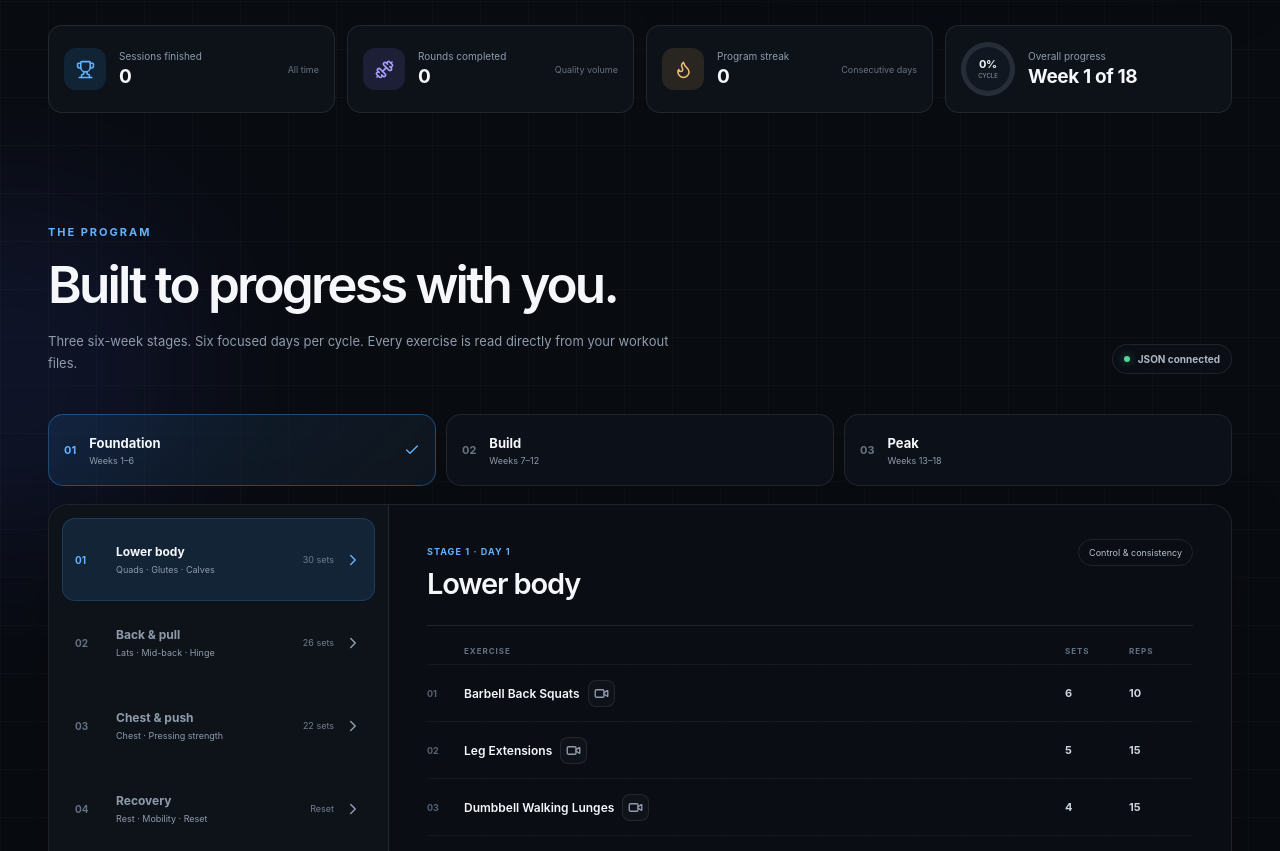
it: Motion workout experience › loads the JSON program and switches program stages
The image size is (1280, 851).
(page scrolled)
Expected: the text "JSON connected" is shown, x1=1112 y1=344 x2=1232 y2=374
Click the tab "02 Build Weeks 7–12" at x=505, y=443, box x1=446 y1=414 x2=834 y2=486
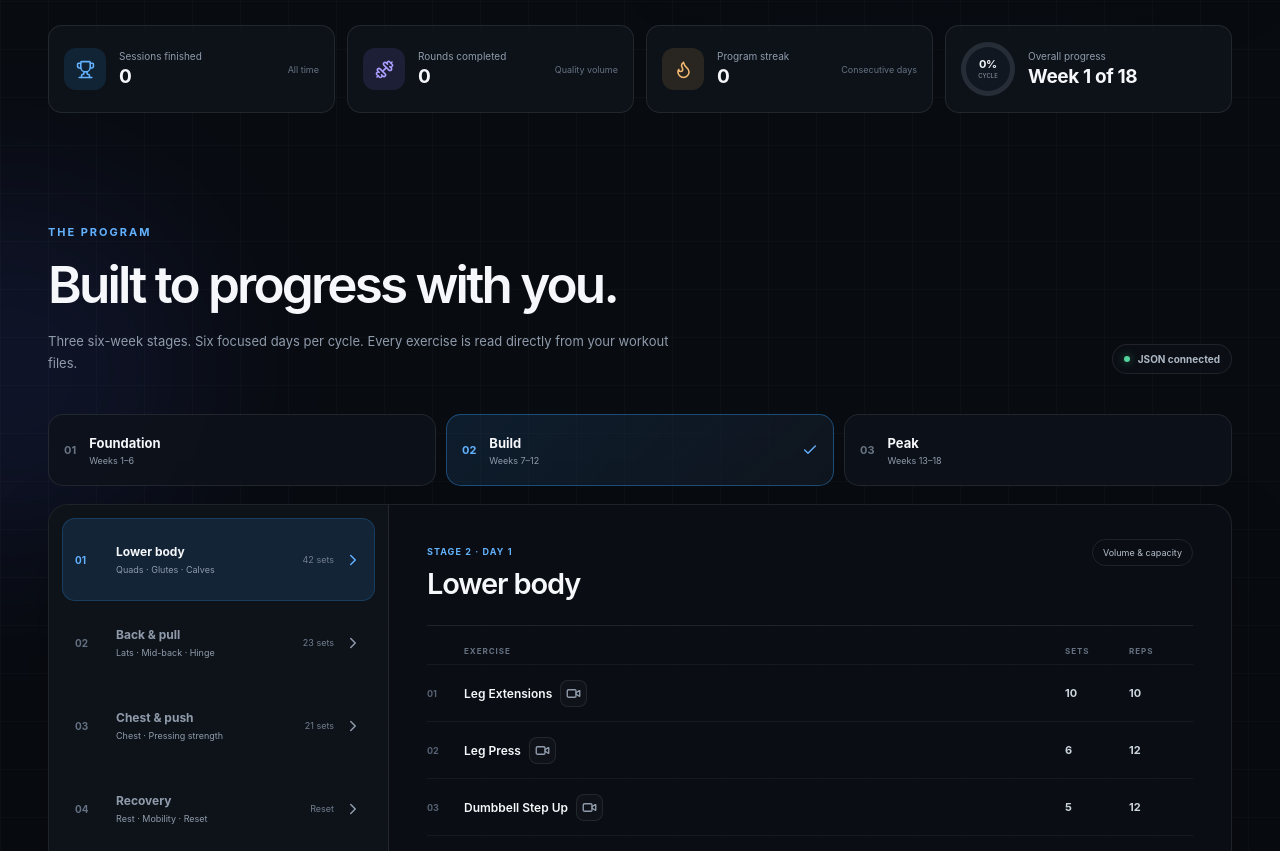
Result: the text "Stage 2 · Day 1" is shown at x1=427 y1=546 x2=513 y2=557
Result: the text "Leg press" is shown at x1=464 y1=737 x2=556 y2=764
